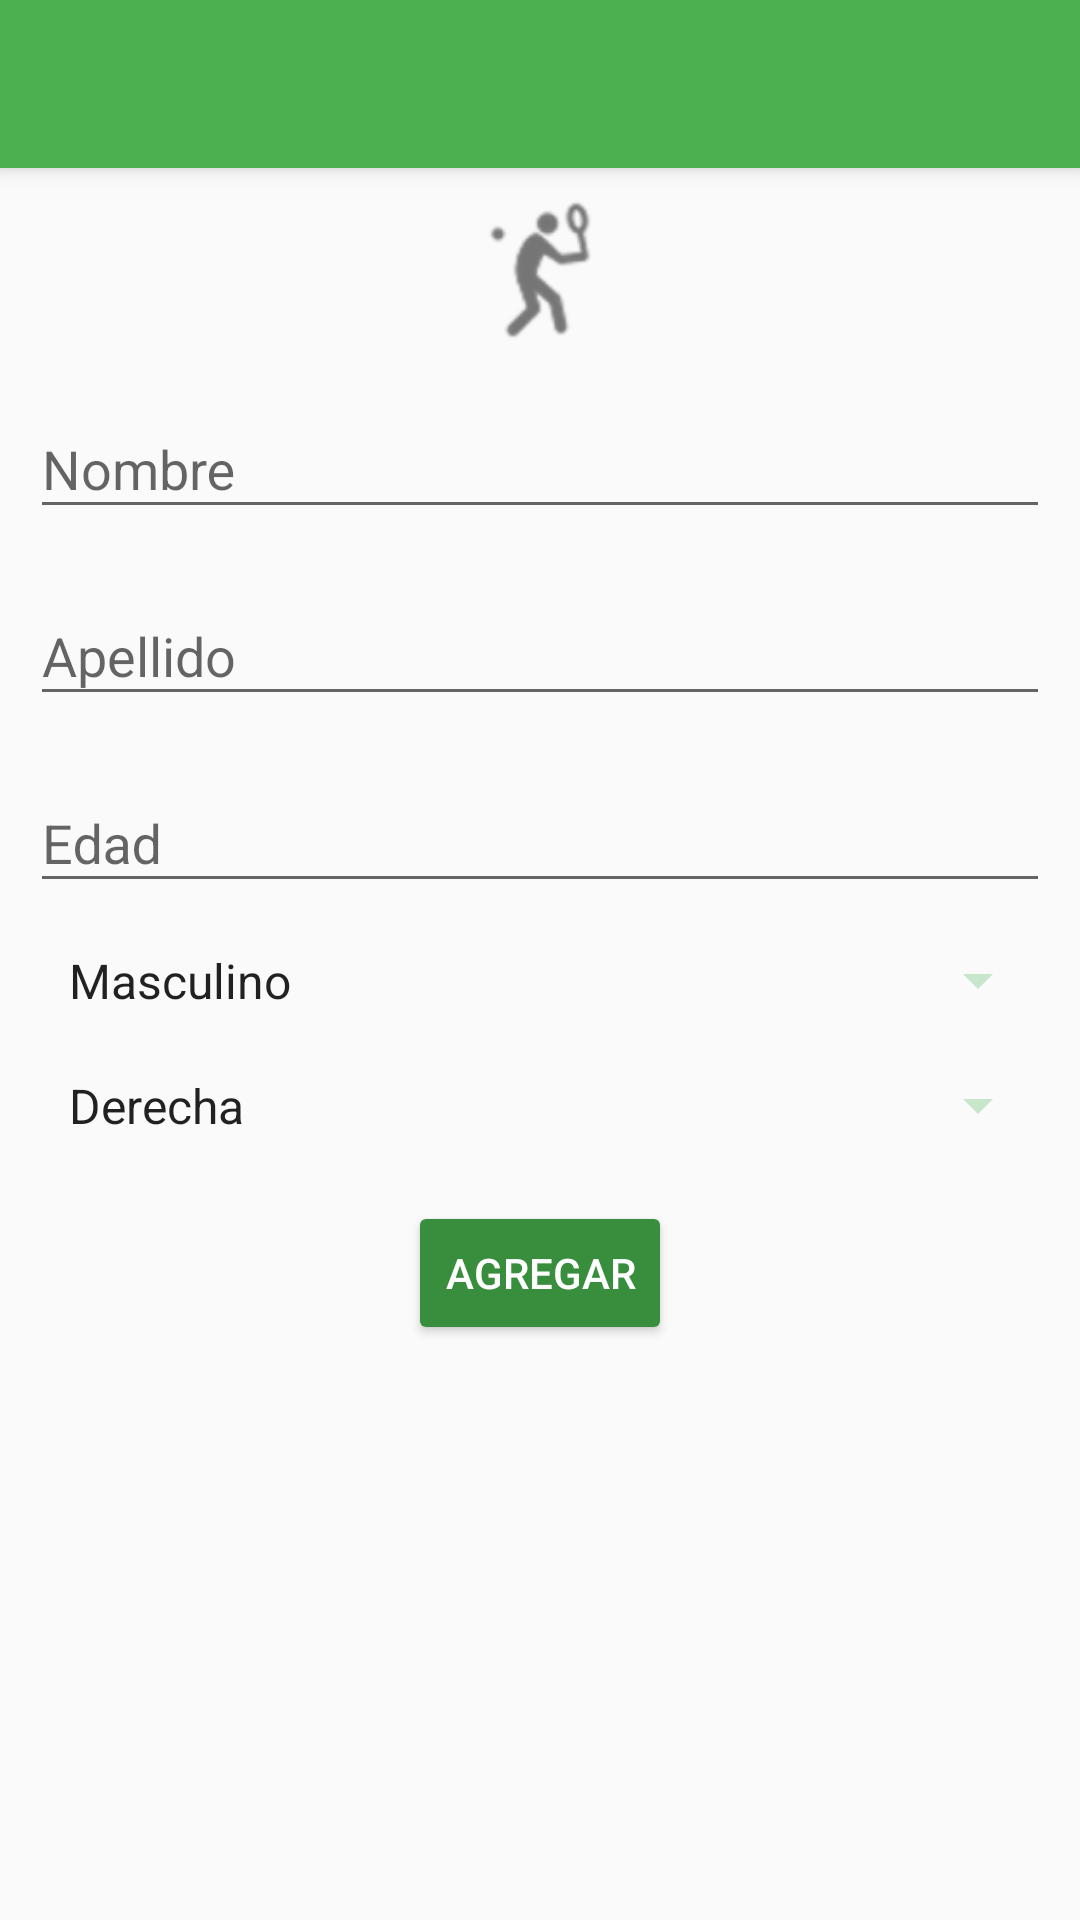

Screen size 1080x1920. Icon name, then its box in pixels as box=[x1, y1, x2, y2]:
tennis player: box=[491, 203, 590, 337]
